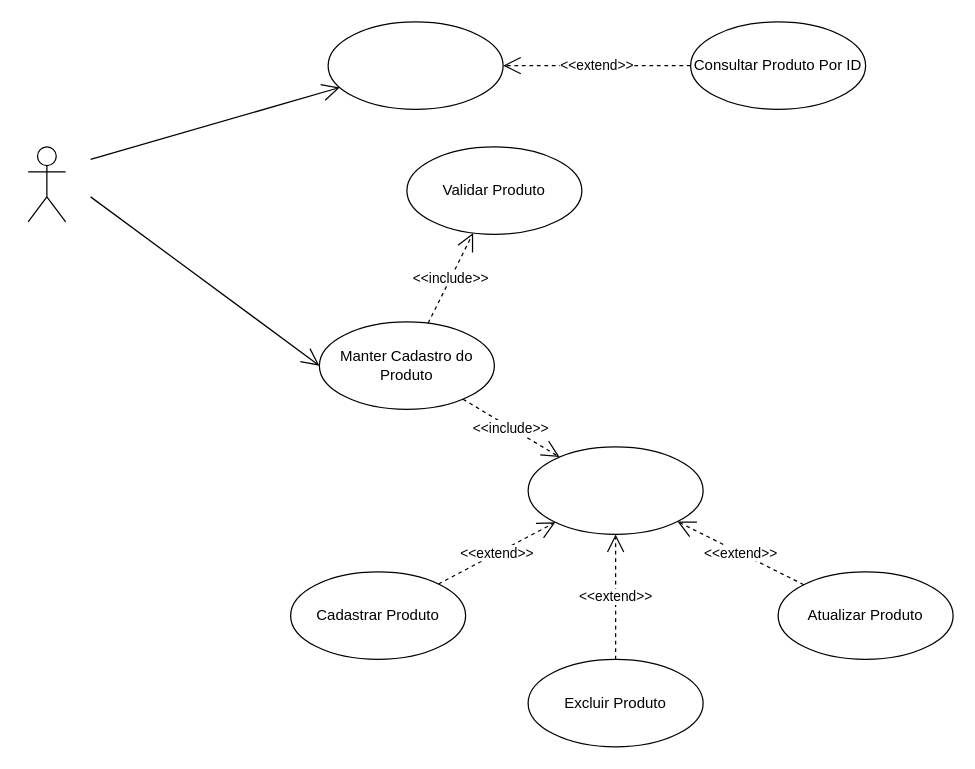
This 975x769 diagram has some shape labels left out. Each missing label, with the centre of its shape:
Consultar Produto: the point at 415,65
Salvar Cadastro: the point at 615,490
Usuario: the point at 46,184
